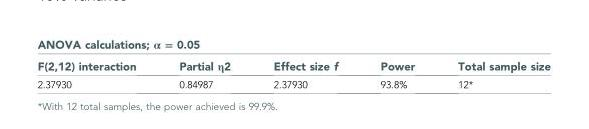table: (36, 36, 549, 89)
table column: (36, 36, 156, 89), (435, 36, 549, 89), (251, 36, 358, 89), (156, 36, 251, 89), (358, 36, 435, 89)
table column header: (36, 36, 549, 76)
table row: (36, 55, 549, 76), (36, 36, 549, 55), (36, 76, 549, 89)
table spanning cell: (36, 36, 549, 55)
